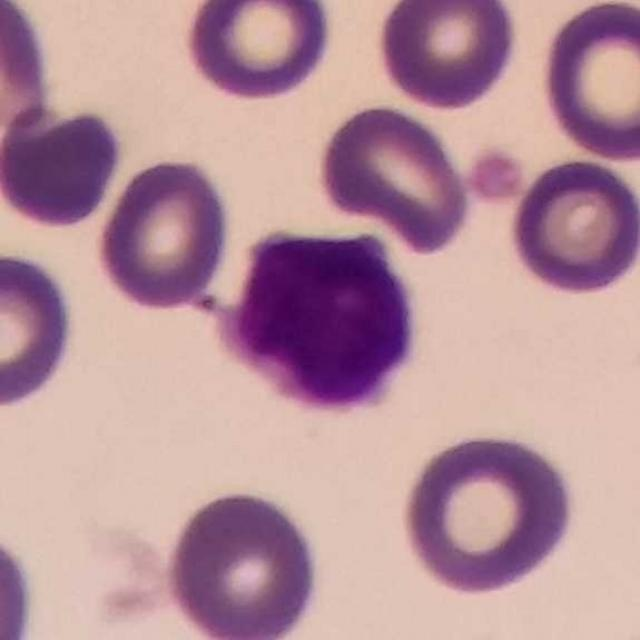Lymphocyte: (207, 215, 429, 424)
RBC: (394, 425, 583, 601), (313, 99, 474, 256), (163, 484, 325, 639), (92, 153, 236, 314), (505, 154, 640, 298), (535, 1, 640, 165), (373, 0, 523, 114), (0, 99, 128, 232), (180, 0, 338, 105), (46, 560, 255, 639), (0, 246, 81, 414), (0, 0, 55, 144), (0, 521, 40, 640)
